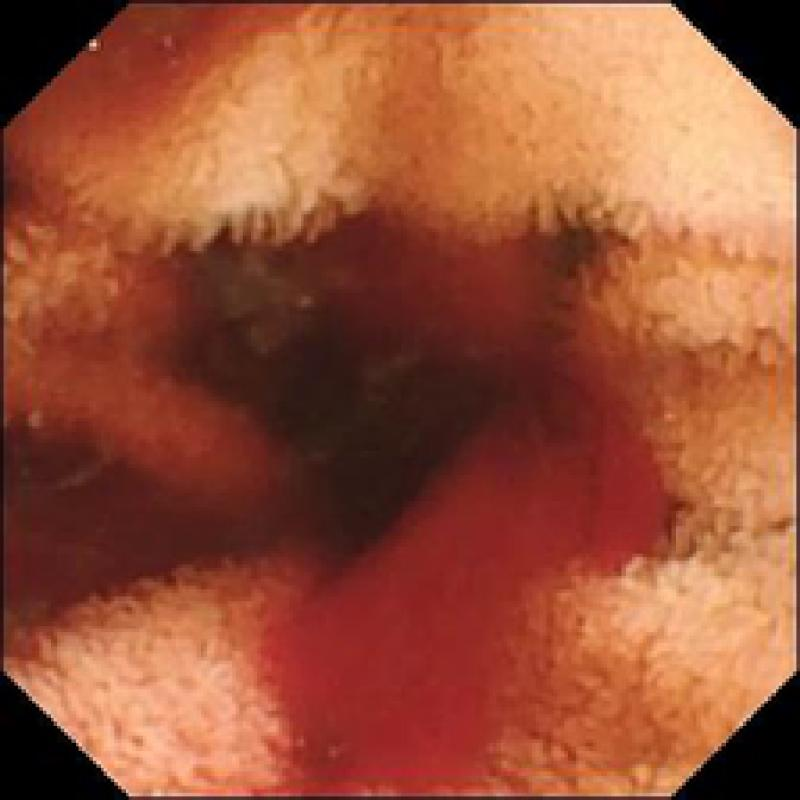bleeding: (293, 214, 632, 800)
